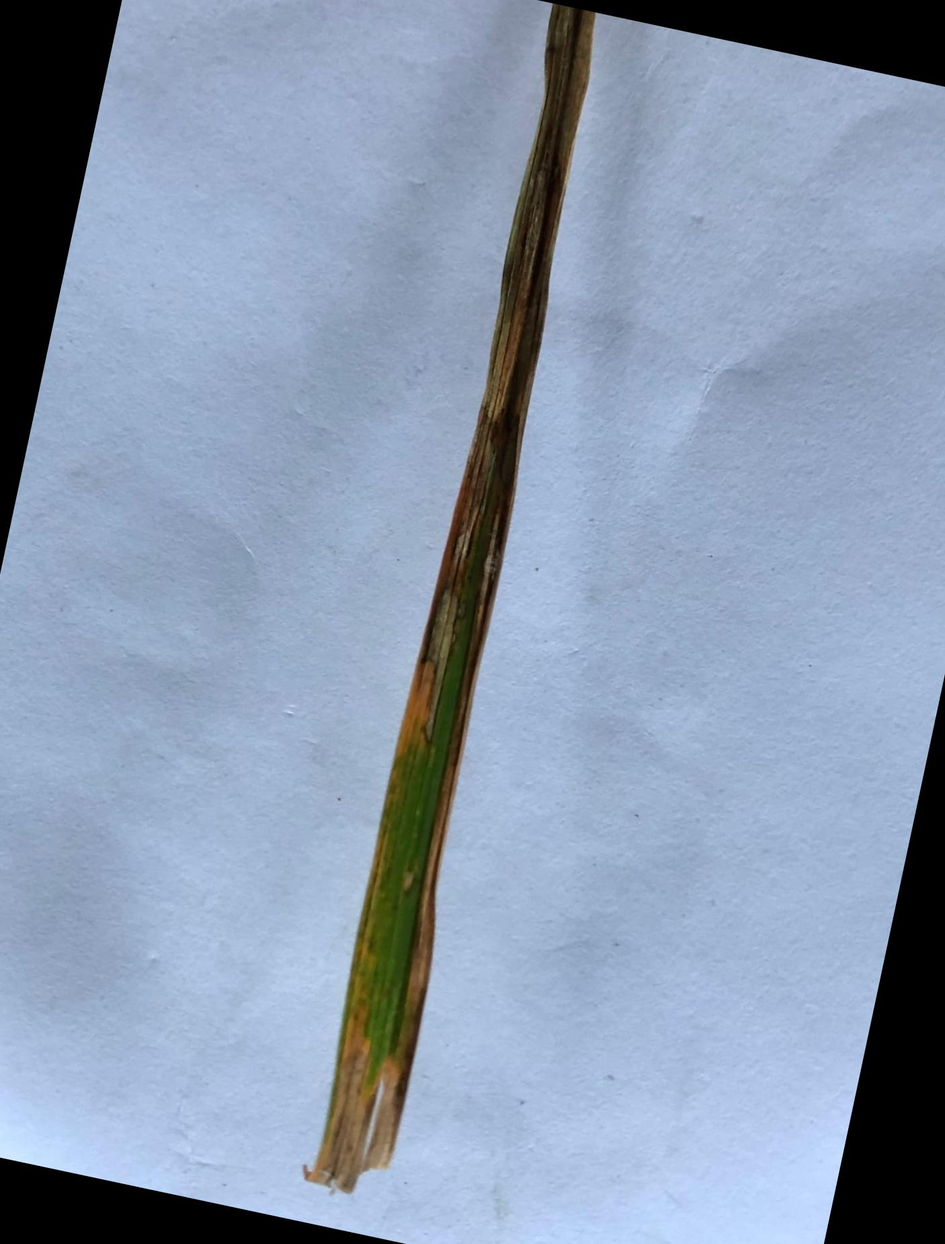Leaf Blight: (307, 3, 599, 1189)
